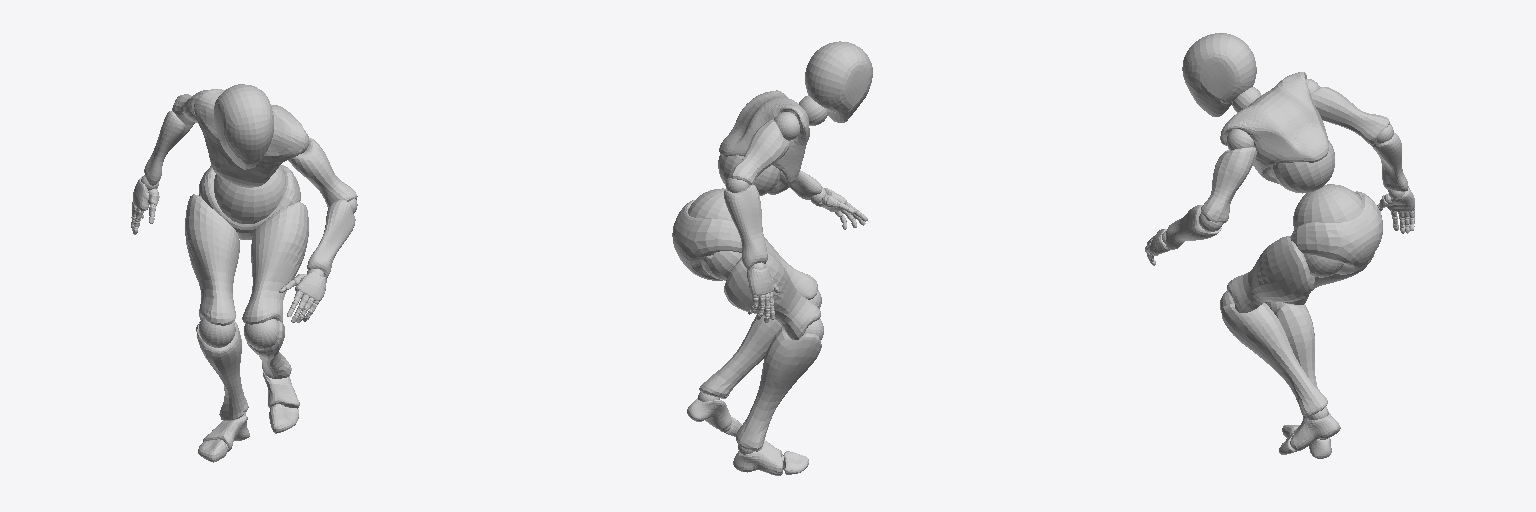
The picture shows the model from 3 angles: view 1: azimuth 30°, elevation 25°; view 2: azimuth 150°, elevation 25°; view 3: azimuth 270°, elevation 25°; orthographic projection.
Parts seen in each view (by area): view 1: Beta_Surface, Beta_Joints; view 2: Beta_Surface, Beta_Joints; view 3: Beta_Surface, Beta_Joints.
Part boxes in pixels (x1,y1,x2,y2): Beta_Surface: (131,84,357,462); Beta_Joints: (131,105,357,451); Beta_Surface: (672,41,872,475); Beta_Joints: (688,95,863,469); Beta_Surface: (1145,33,1414,458); Beta_Joints: (1145,79,1414,439).
Size of the model in its own units: 0.5057 by 1.45 by 0.8899.